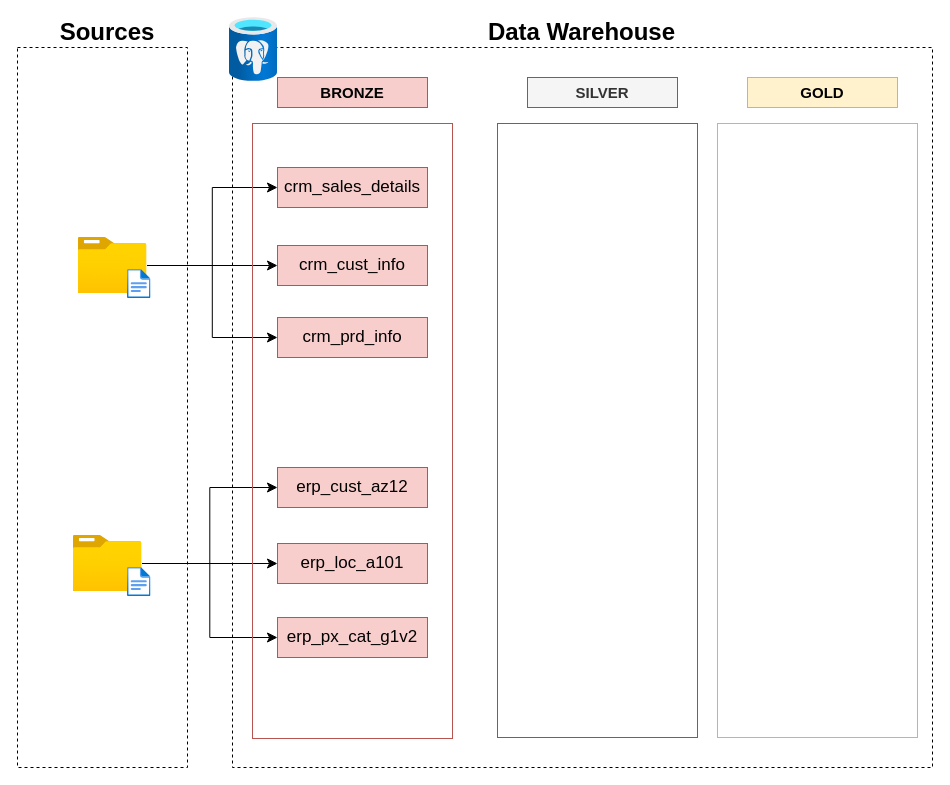
This 950x785 diagram has some shape labels left out. The box of each missing label's shape, as (x1, y1, x2, y2) in pixels:
CRM: (78, 237, 146, 293)
ERP: (72, 535, 142, 591)
